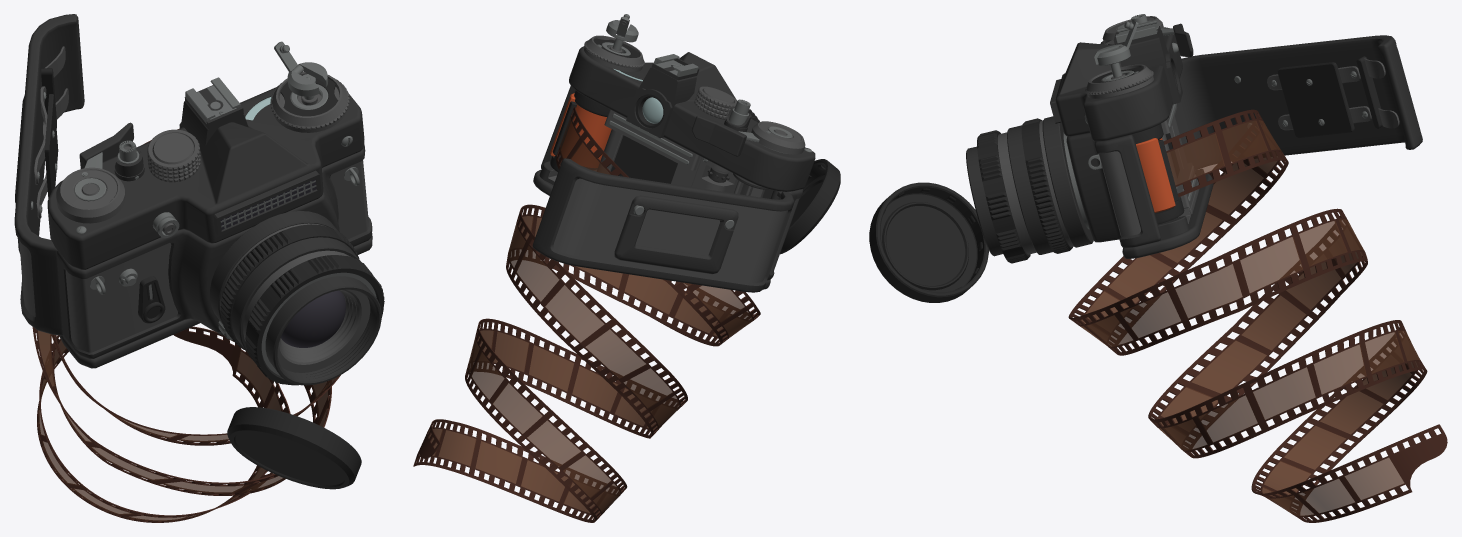
3 views of the same model, side by side, from view 1: azimuth 30°, elevation 25°; view 2: azimuth 150°, elevation 25°; view 3: azimuth 270°, elevation 25° (orthographic). The views are drawn at different scales.
Visible parts, largest first — view 1: polySurface726, polySurface796, polySurface728, polySurface789, polySurface714, polySurface766, polySurface788, polySurface787, polySurface771, polySurface722, polySurface721, polySurface724 (+19 smaller); view 2: polySurface728, polySurface789, polySurface726, polySurface812, polySurface714, polySurface748, polySurface772, polySurface768, polySurface838, polySurface771, polySurface865, polySurface811 (+5 smaller); view 3: polySurface728, polySurface789, polySurface714, polySurface796, polySurface726, polySurface782, polySurface788, polySurface724, polySurface722, polySurface721, polySurface772, polySurface814 (+6 smaller).
Part boxes in pixels (<box>): polySurface726: <box>47,87,364,269</box>; polySurface796: <box>56,144,372,359</box>; polySurface728: <box>32,128,340,522</box>; polySurface789: <box>14,14,84,335</box>; polySurface714: <box>227,407,361,489</box>; polySurface766: <box>265,276,381,385</box>; polySurface788: <box>245,255,384,385</box>; polySurface787: <box>277,289,370,372</box>; polySurface771: <box>56,167,125,223</box>; polySurface722: <box>220,224,359,350</box>; polySurface721: <box>231,237,359,352</box>; polySurface724: <box>210,211,337,323</box>; polySurface728: <box>413,106,760,522</box>; polySurface789: <box>532,158,793,292</box>; polySurface726: <box>569,46,815,191</box>; polySurface812: <box>614,195,738,274</box>; polySurface714: <box>780,159,840,254</box>; polySurface748: <box>610,135,677,183</box>; polySurface772: <box>550,93,611,167</box>; polySurface768: <box>691,115,746,156</box>; polySurface838: <box>638,67,696,137</box>; polySurface771: <box>751,121,805,154</box>; polySurface865: <box>604,109,700,170</box>; polySurface811: <box>694,86,737,119</box>; polySurface728: <box>1068,109,1447,522</box>; polySurface789: <box>1175,35,1422,169</box>; polySurface714: <box>869,182,988,302</box>; polySurface796: <box>1066,133,1161,248</box>; polySurface726: <box>1055,27,1182,141</box>; polySurface782: <box>1277,62,1354,137</box>; polySurface788: <box>977,130,1030,263</box>; polySurface724: <box>1042,116,1093,247</box>; polySurface722: <box>1021,118,1072,253</box>; polySurface721: <box>1007,125,1052,254</box>; polySurface772: <box>1136,138,1175,212</box>; polySurface814: <box>1122,174,1213,258</box>.
Size of the model in its own units: 7.14 by 10.77 by 11.55.
